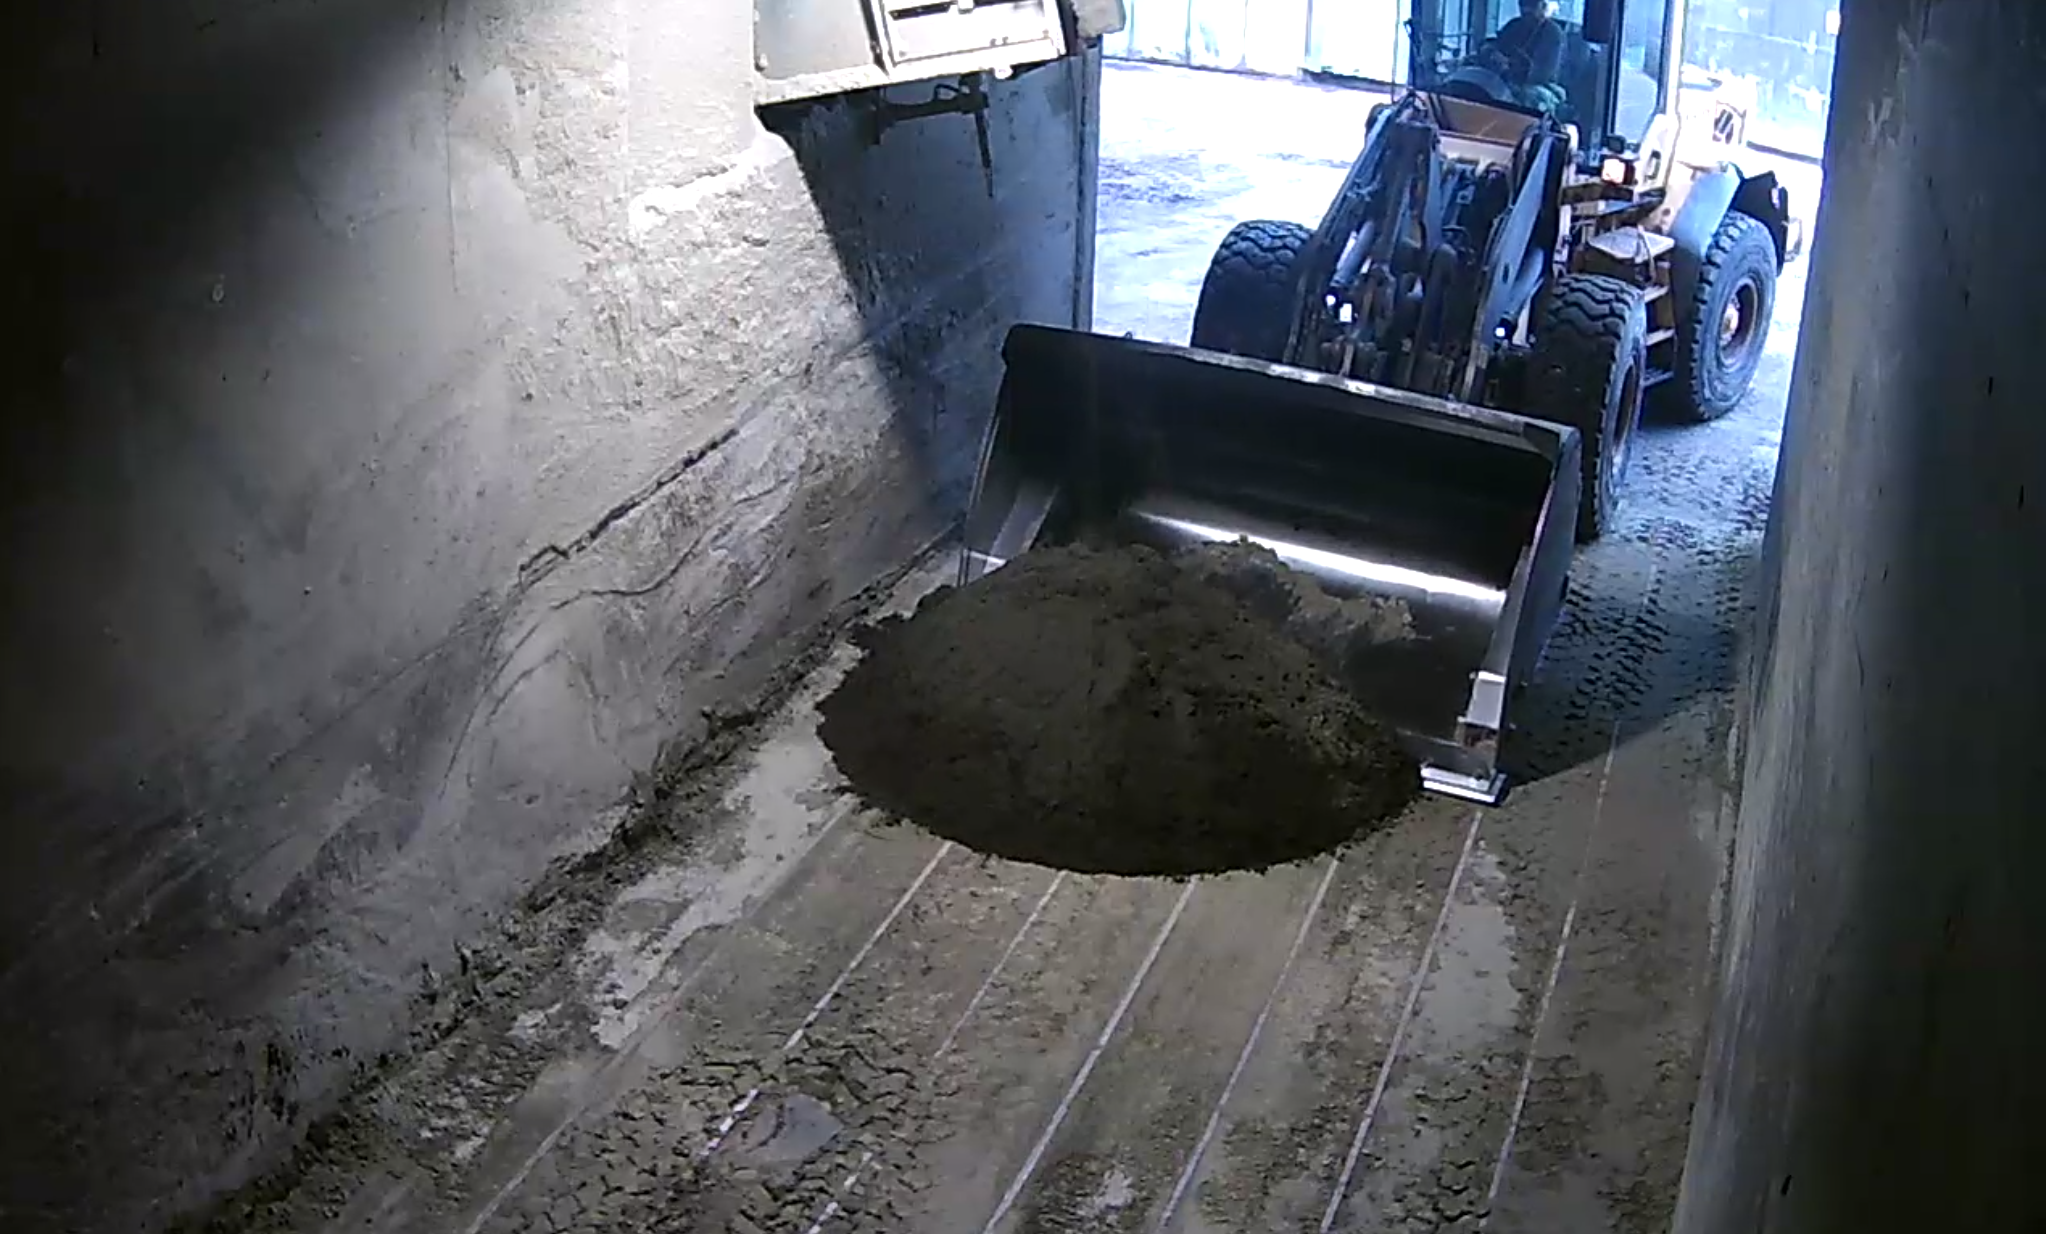pile: (821, 534, 1428, 882)
